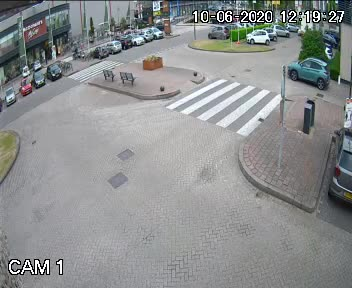car: (284, 53, 331, 93)
